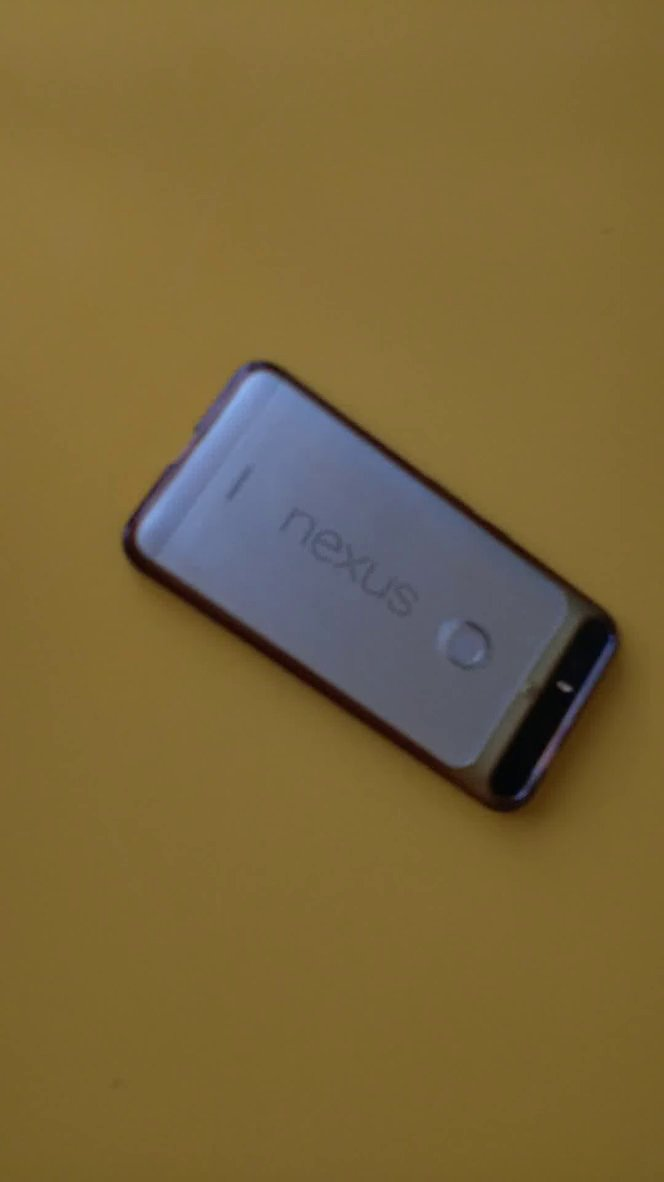phone: (109, 353, 635, 830)
